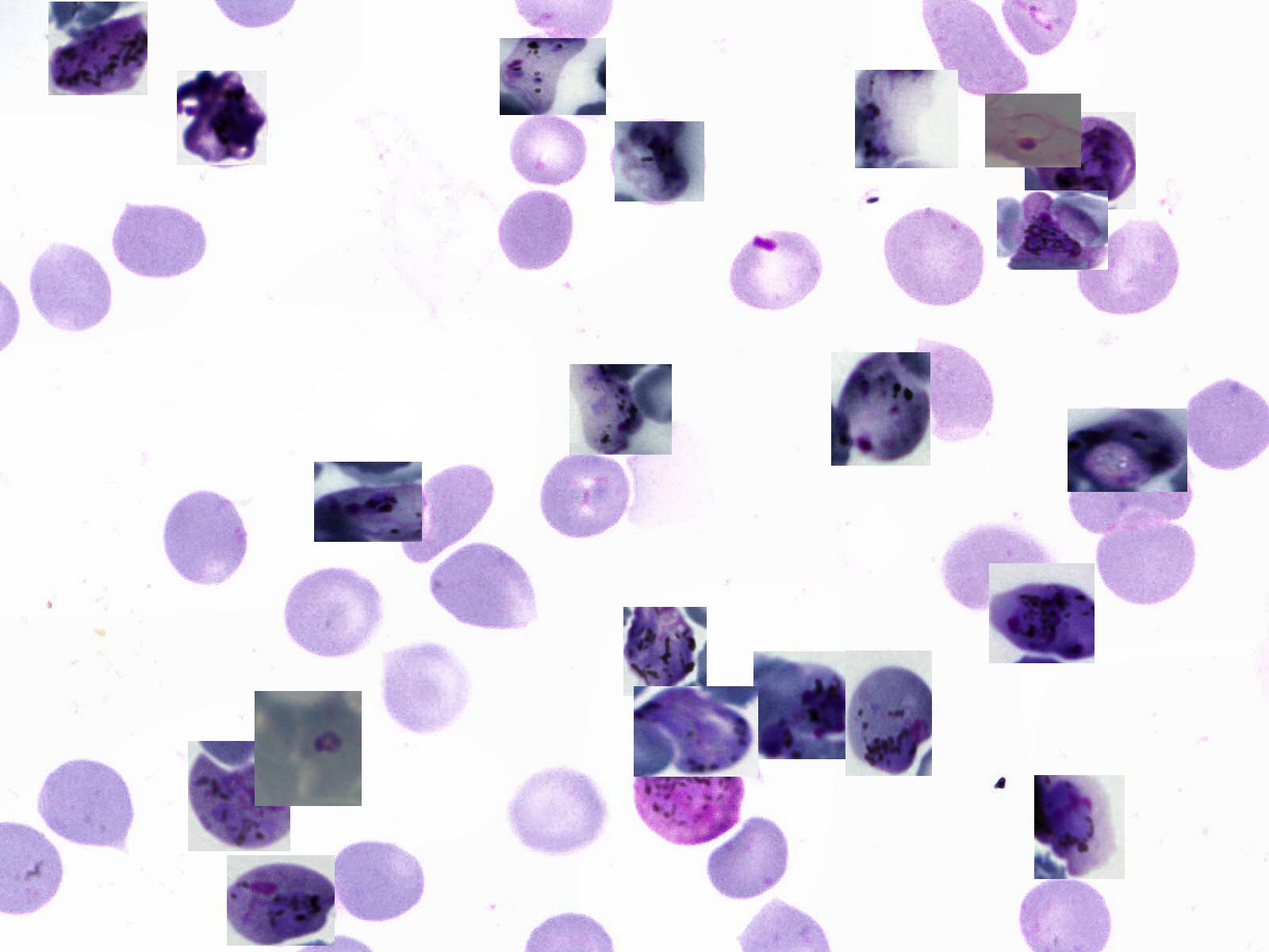Infected: (631, 735, 746, 844), (255, 691, 362, 806), (831, 352, 930, 466), (634, 686, 758, 777), (188, 741, 290, 851), (753, 651, 855, 759), (845, 651, 932, 776), (1025, 112, 1136, 209), (989, 563, 1095, 663), (855, 70, 958, 168), (1068, 409, 1187, 492), (227, 855, 335, 946), (1034, 775, 1125, 879), (569, 364, 672, 455), (48, 2, 148, 95), (997, 190, 1108, 270), (315, 462, 422, 542), (177, 71, 266, 165), (500, 38, 606, 115), (623, 607, 707, 696), (615, 121, 705, 202), (985, 94, 1081, 167)
Uninfected: (874, 205, 990, 309), (937, 522, 1065, 614), (1071, 215, 1182, 321), (276, 561, 387, 662), (1091, 512, 1202, 607), (32, 754, 139, 850), (505, 764, 611, 858), (908, 331, 996, 444), (428, 541, 540, 629), (159, 484, 251, 591), (326, 833, 430, 925), (1068, 462, 1194, 537), (377, 639, 471, 738), (401, 463, 490, 566), (27, 237, 120, 335), (536, 451, 634, 541), (719, 228, 823, 311), (109, 198, 210, 283), (704, 812, 791, 902), (499, 186, 577, 272), (511, 114, 593, 189)
